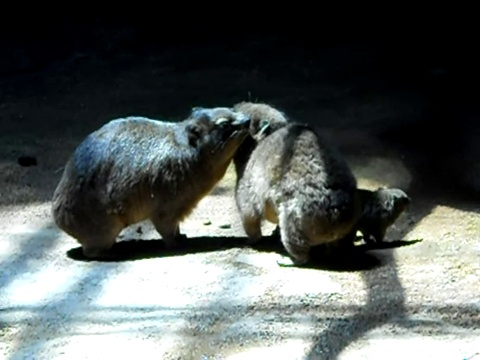Rock Hyrex: (51, 107, 253, 254), (228, 103, 364, 264)
